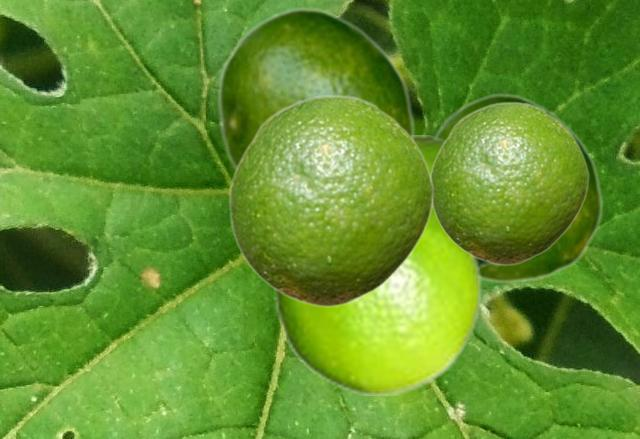calamansi: (228, 94, 433, 307), (273, 213, 482, 394), (216, 6, 415, 171), (434, 92, 603, 283), (430, 101, 588, 265), (416, 135, 502, 273)
